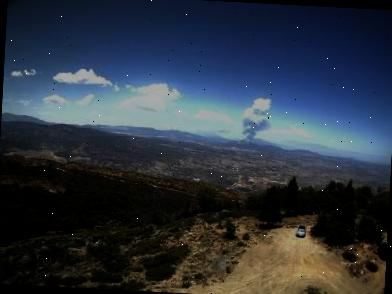smoke: (238, 95, 276, 148)
